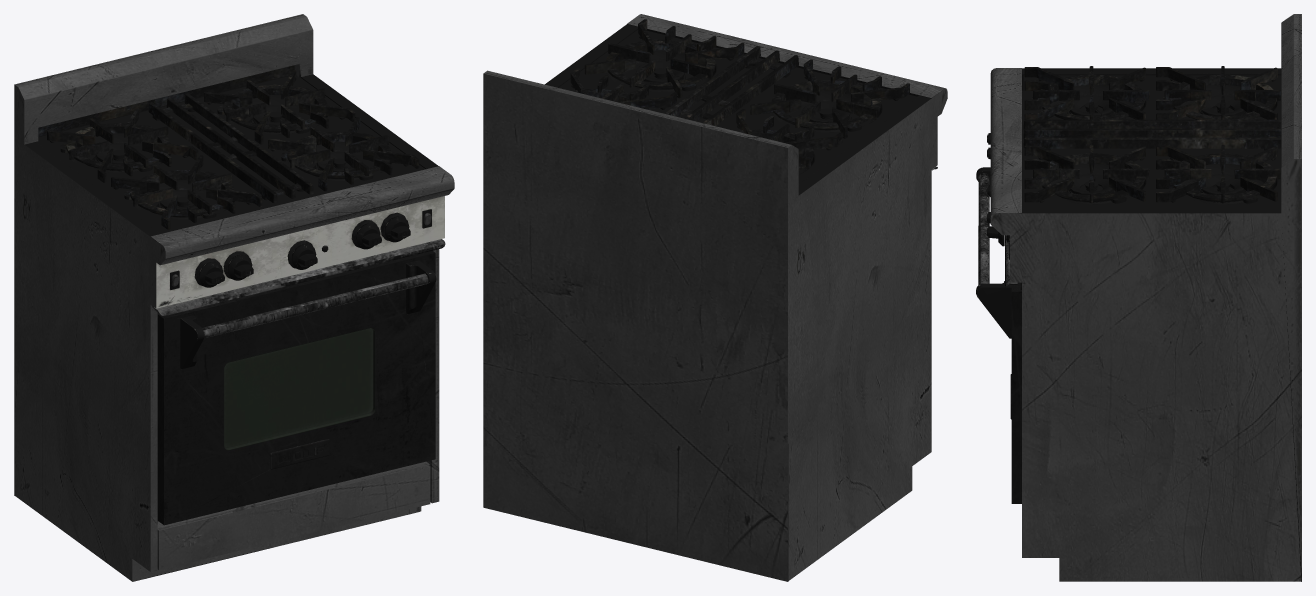
3 renders of one model, left to right at view 1: azimuth 30°, elevation 25°; view 2: azimuth 150°, elevation 25°; view 3: azimuth 270°, elevation 25°, orthographic. The views are drawn at different scales.
Visible parts, largest first — view 1: Geode; view 2: Geode; view 3: Geode.
Part boxes in pixels (x1=…): Geode: x1=14, y1=14, x2=454, y2=581; Geode: x1=483, y1=14, x2=947, y2=581; Geode: x1=976, y1=14, x2=1301, y2=581.
Size of the model in its own units: 30 by 40.85 by 28.52.
Materials: 1 (1 with a texture image).
